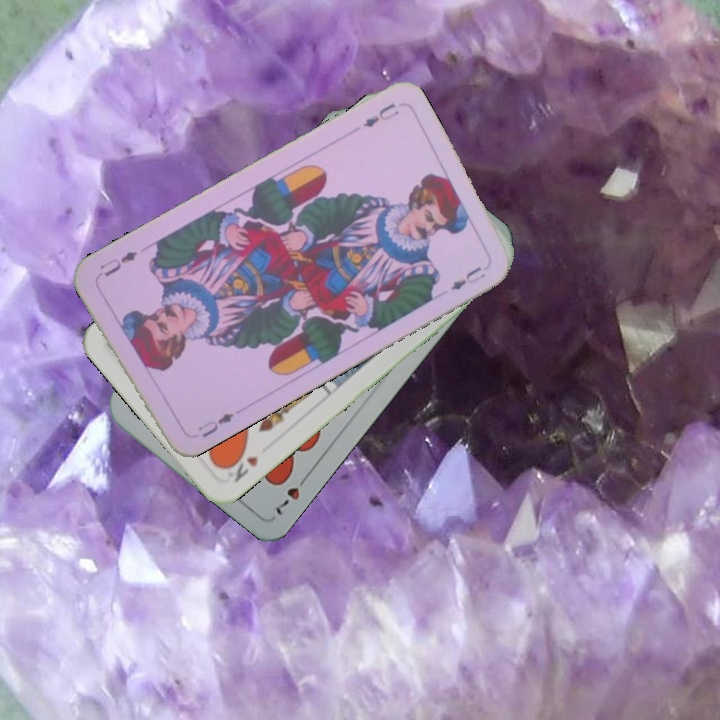EU: (194, 408, 237, 441), (359, 99, 402, 131)
H7: (271, 469, 312, 518)
HK: (220, 447, 262, 485)
